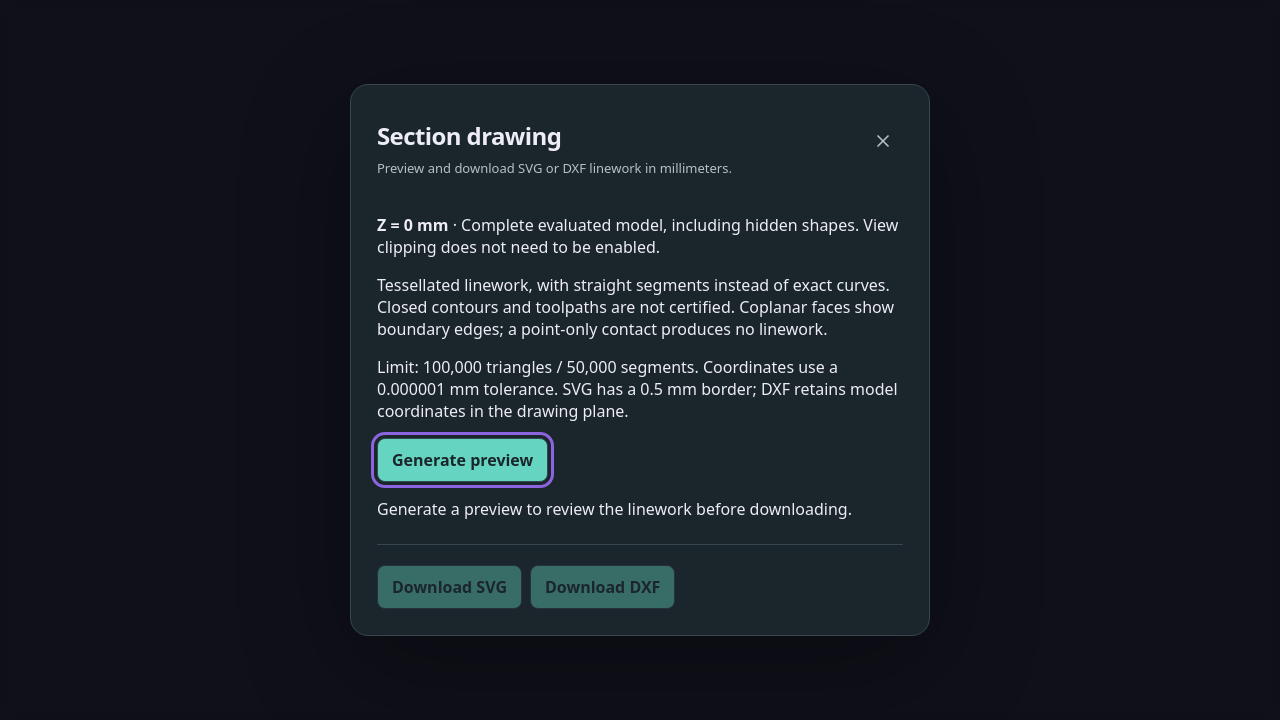
Test: section drawing preview › disables reviewed exports immediately after the section changes
Click the button "Generate preview" at (463, 460), box [377, 438, 548, 482]
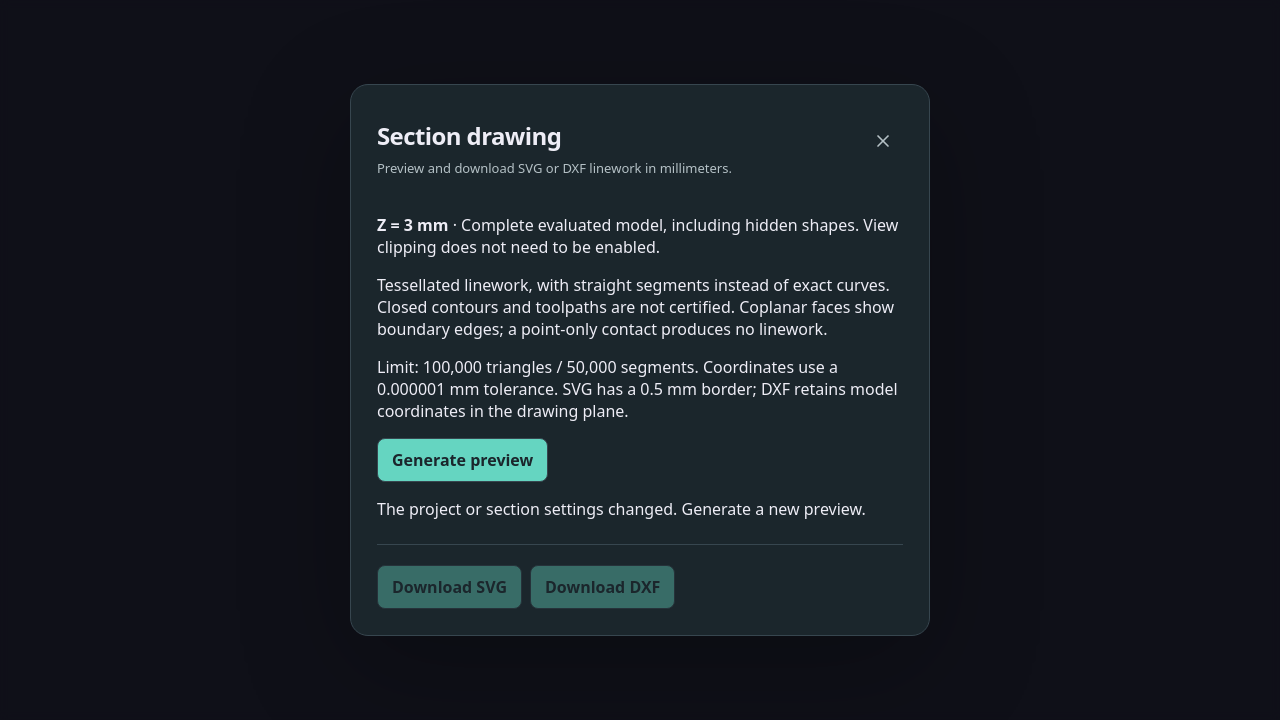
Expected: the button "Download SVG" is disabled, [377, 565, 522, 609]
Now the text "The project or section settings changed. Generate a new preview." is shown, box [377, 498, 903, 520]
